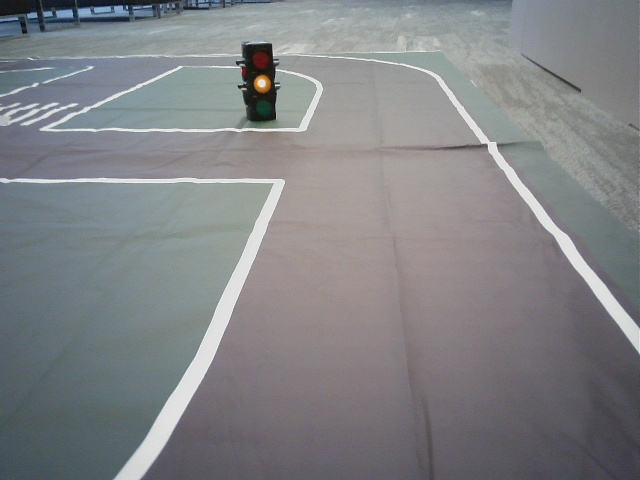yellow: (247, 46, 275, 119)
